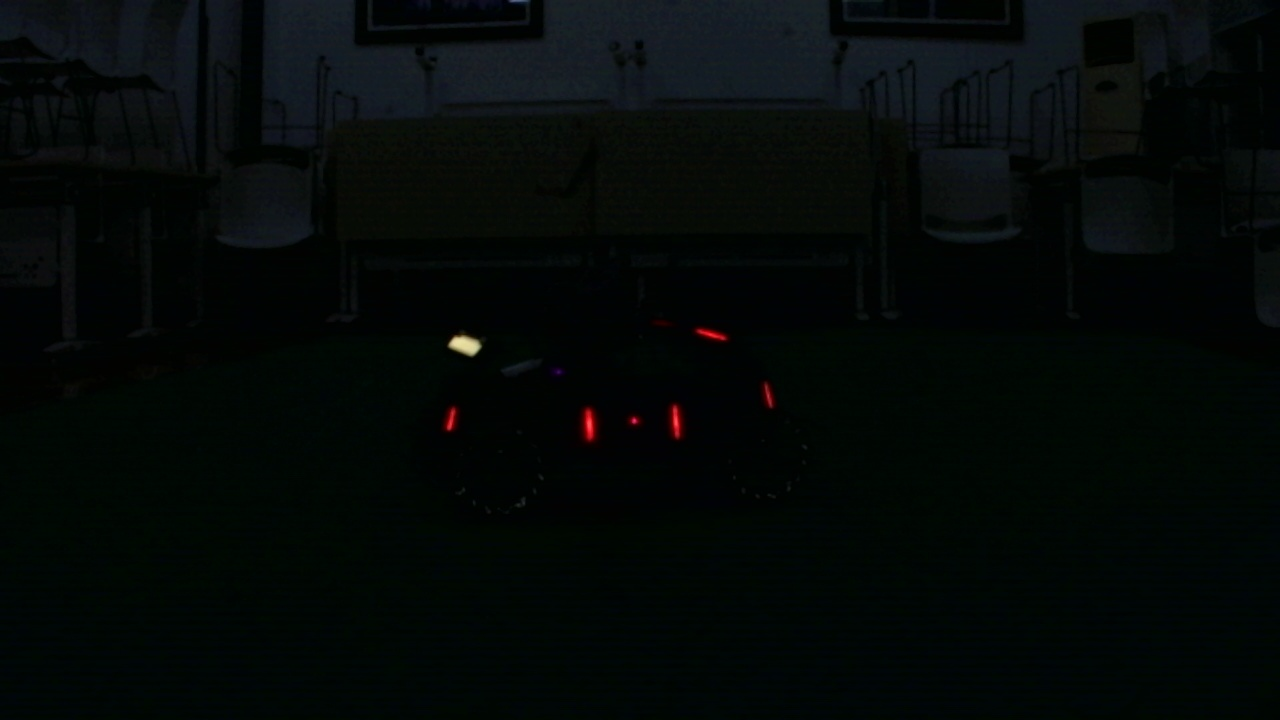lamp: (666, 402, 683, 442), (443, 403, 459, 442), (581, 404, 596, 443)
pair1: (583, 407, 683, 442)
